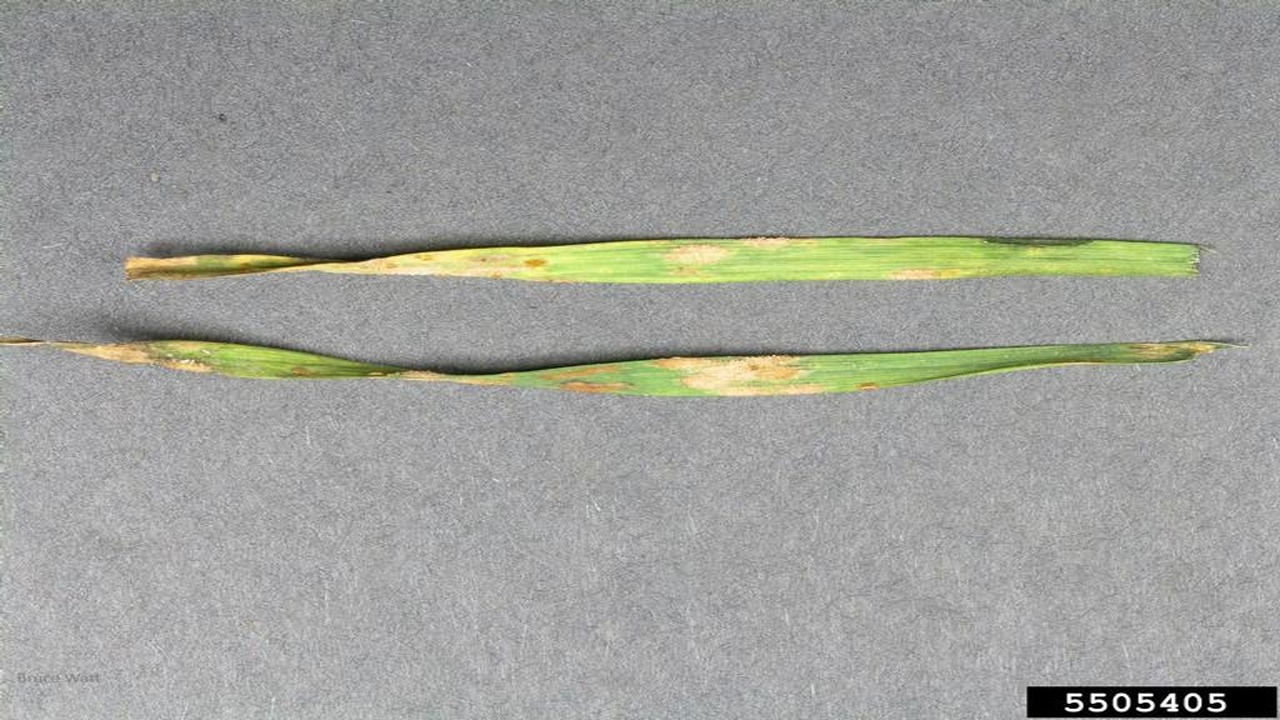leaf_rust: (2, 333, 1244, 395), (117, 226, 1215, 290)
